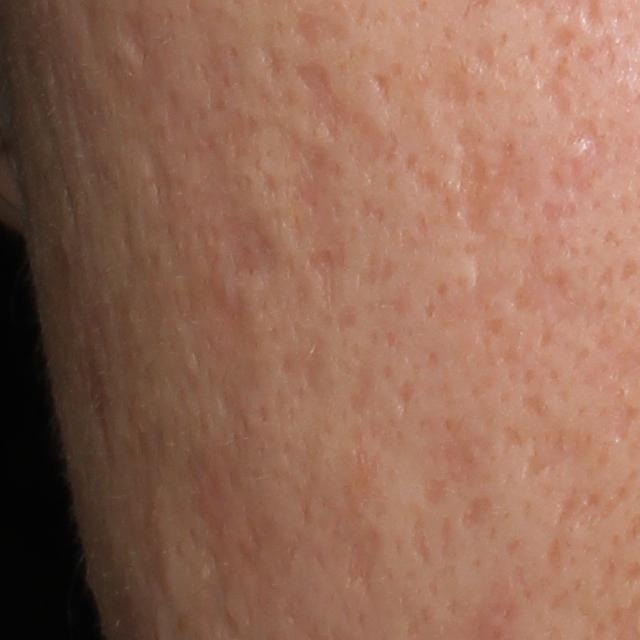atrophic_scar: (282, 127, 355, 317), (178, 272, 266, 428), (401, 125, 500, 249), (329, 453, 389, 604), (514, 253, 582, 350), (113, 6, 163, 121), (520, 425, 615, 482), (289, 63, 355, 143), (566, 115, 616, 193), (199, 41, 243, 117), (344, 111, 399, 169), (224, 212, 273, 277), (285, 2, 344, 51), (534, 55, 575, 124), (423, 64, 471, 112), (404, 510, 437, 571), (345, 362, 377, 421), (143, 142, 175, 197), (251, 32, 284, 82), (555, 483, 587, 530), (459, 494, 496, 533), (418, 475, 454, 508), (542, 533, 569, 577), (542, 25, 583, 49), (365, 68, 392, 104), (396, 377, 417, 412)
